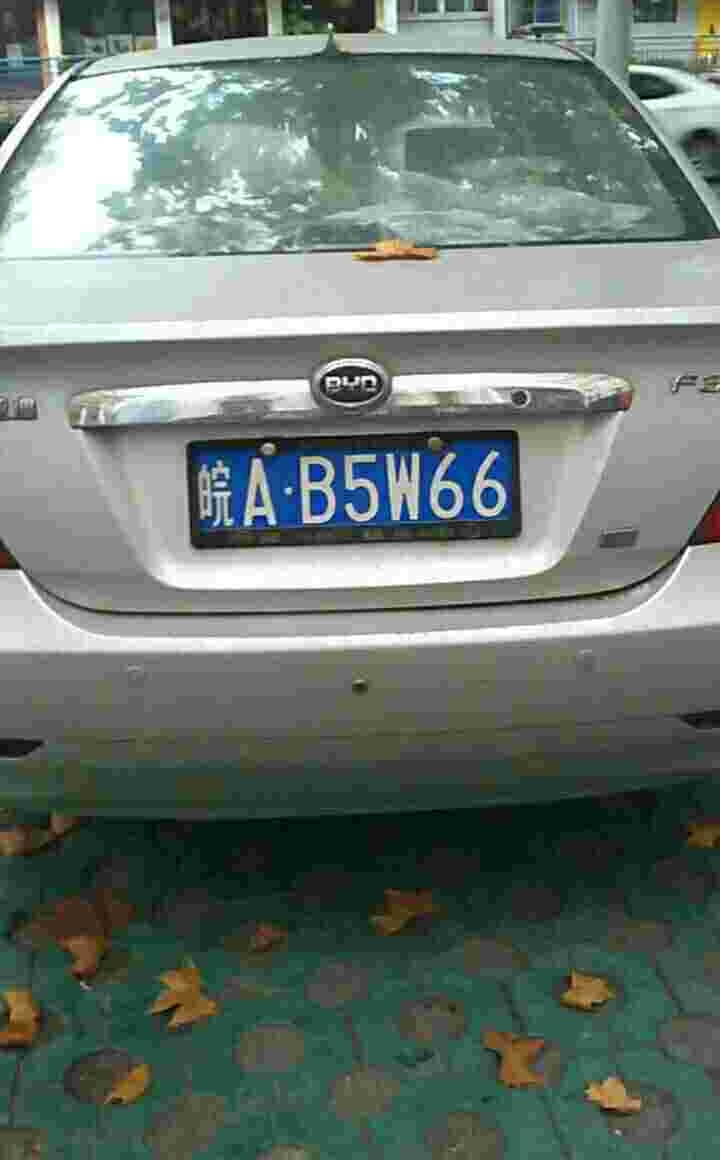license_plate: (195, 442, 505, 540)
